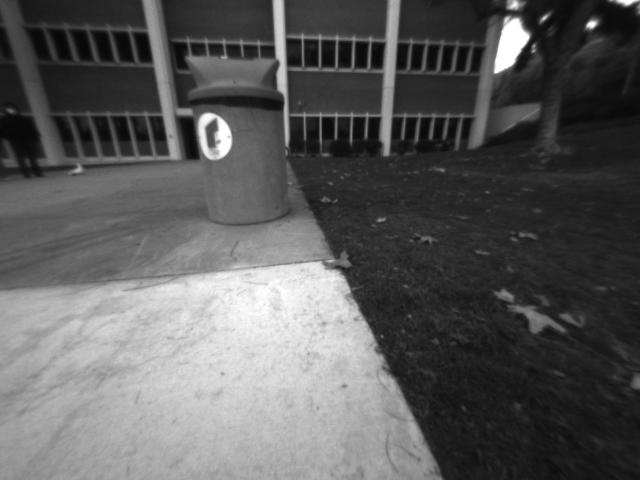trashcan: (175, 46, 315, 238)
